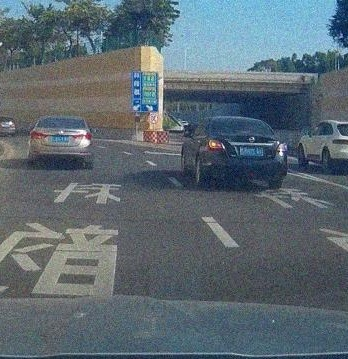L_light: (208, 140, 225, 150), (30, 131, 48, 139)
R_light: (73, 131, 92, 140), (275, 142, 287, 151)
T_light: (235, 119, 247, 123), (57, 118, 66, 121)
day-left: (208, 116, 288, 189)
day-no: (29, 115, 93, 168)
